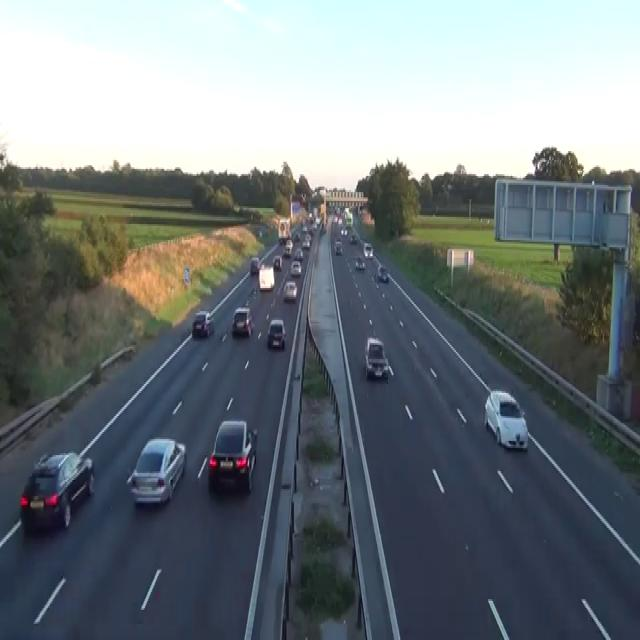Car: (19, 450, 94, 533), (126, 437, 186, 505), (208, 420, 257, 492), (484, 389, 528, 450), (364, 336, 389, 379), (231, 306, 253, 336), (191, 309, 213, 338), (267, 318, 285, 348), (283, 281, 297, 300), (377, 263, 388, 281), (250, 256, 260, 274), (283, 238, 293, 256), (290, 260, 301, 276), (363, 242, 373, 258), (293, 246, 303, 262), (273, 254, 282, 270), (355, 256, 365, 268), (301, 236, 310, 249), (334, 240, 342, 254), (291, 229, 300, 240), (349, 233, 357, 243), (309, 224, 315, 235), (340, 228, 347, 236), (321, 222, 326, 233), (315, 217, 320, 227), (308, 212, 313, 222), (279, 236, 285, 244), (302, 224, 307, 233), (258, 228, 262, 236)
Truck: (258, 265, 274, 290), (278, 217, 291, 243), (344, 206, 352, 226)
